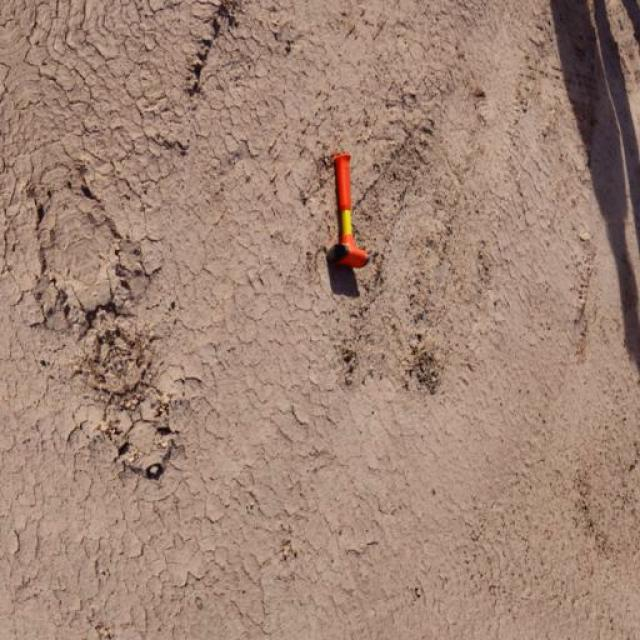mallet: (325, 150, 369, 269)
